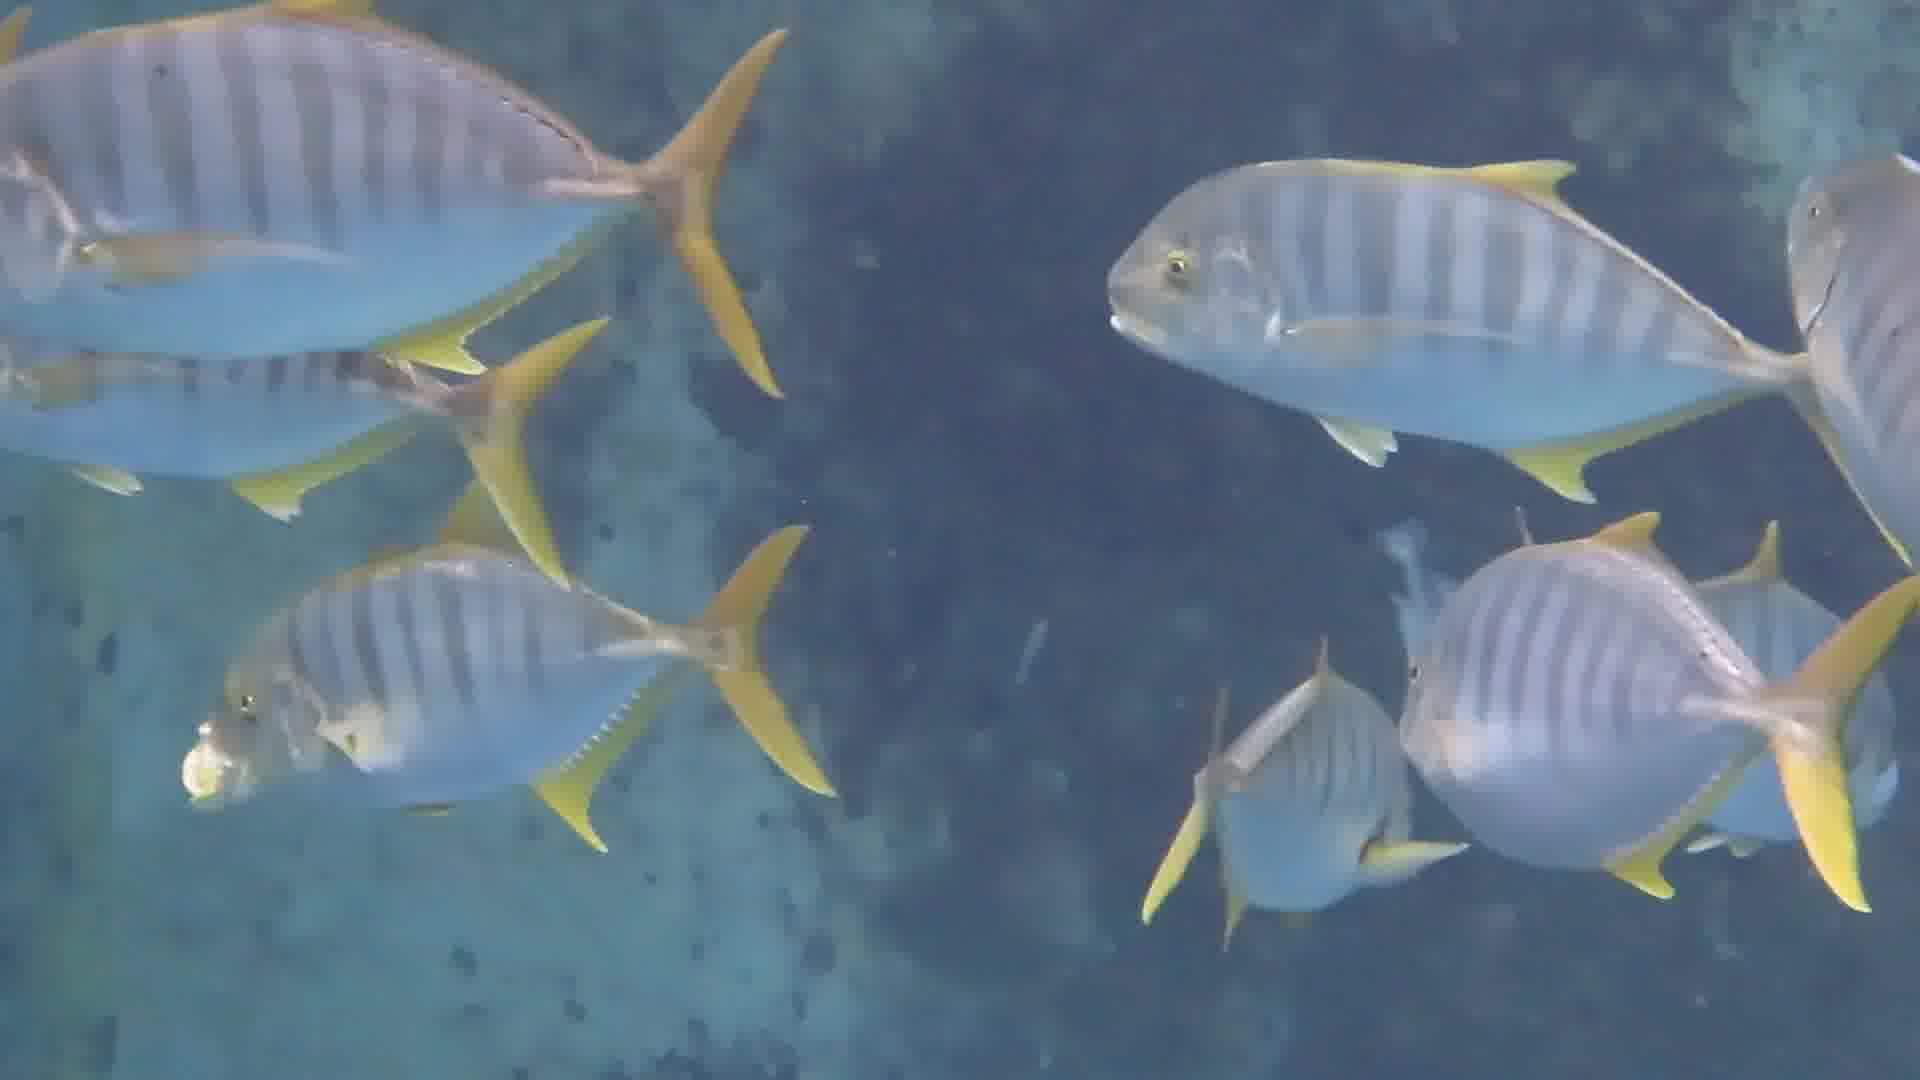Gnathanodon speciosus: (3, 18, 791, 397), (1101, 161, 1811, 477), (1398, 520, 1859, 913), (158, 571, 874, 796)
